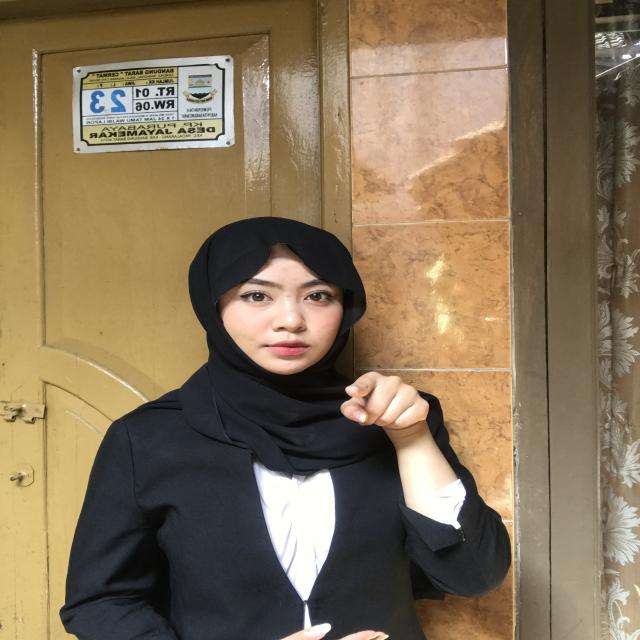kamu: (290, 348, 469, 458)
